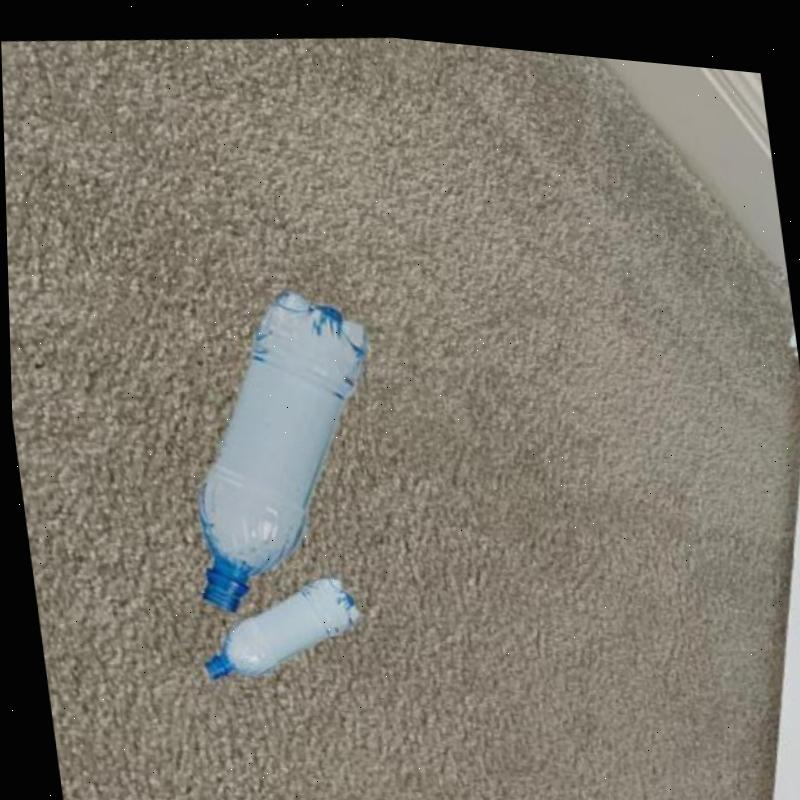botella: (159, 261, 405, 623), (188, 558, 363, 688)
